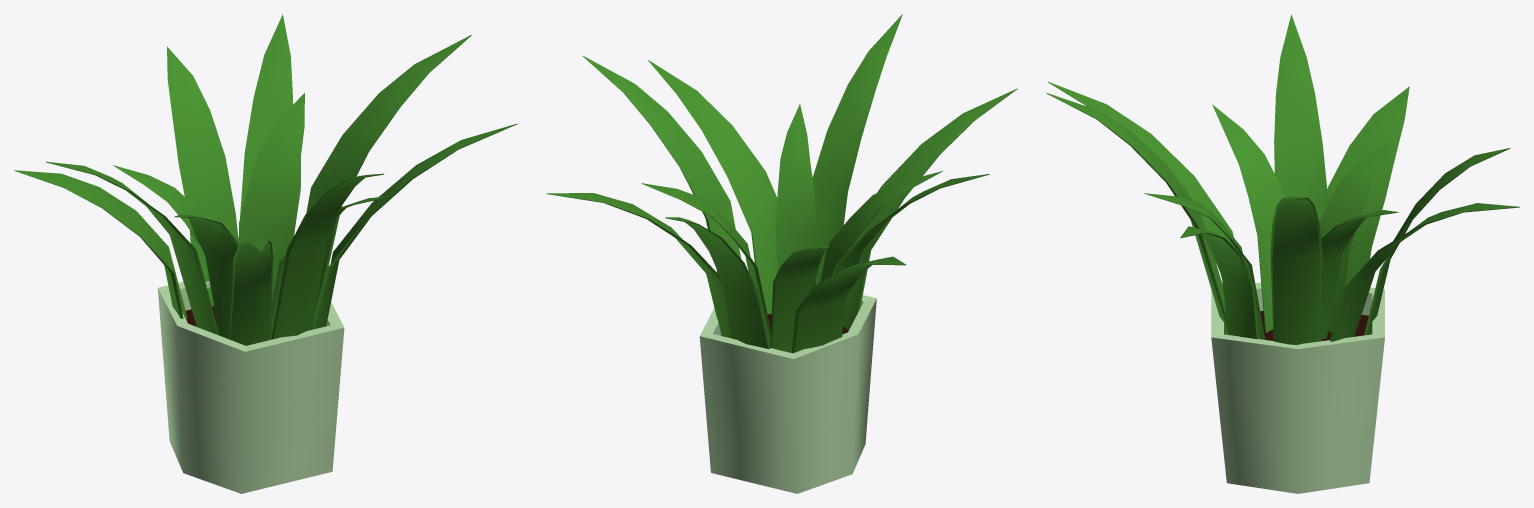
The model's file is Prop_sci_plant_a2.FBX.
3 views of the same model, side by side, from view 1: azimuth 30°, elevation 25°; view 2: azimuth 150°, elevation 25°; view 3: azimuth 270°, elevation 25° (orthographic). The views are drawn at different scales.
Visible parts, largest first — view 1: Sci_plant_005, Sci_plant_004; view 2: Sci_plant_005, Sci_plant_004; view 3: Sci_plant_005, Sci_plant_004.
Part boxes in pixels (x1=…): Sci_plant_005: x1=14, y1=14, x2=517, y2=345; Sci_plant_004: x1=157, y1=281, x2=344, y2=493; Sci_plant_005: x1=546, y1=14, x2=1017, y2=353; Sci_plant_004: x1=699, y1=295, x2=876, y2=493; Sci_plant_005: x1=1046, y1=14, x2=1519, y2=344; Sci_plant_004: x1=1211, y1=282, x2=1384, y2=493.
Size of the model in its own units: 28.89 by 24.13 by 27.9.
